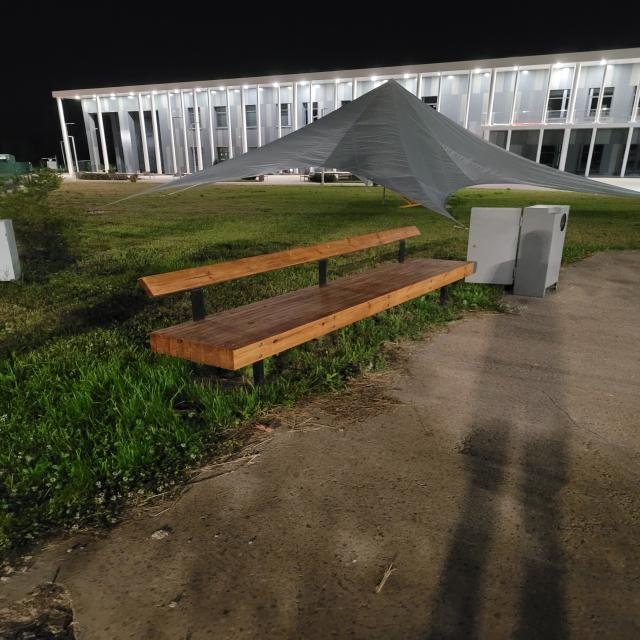Bench: (138, 226, 474, 386)
